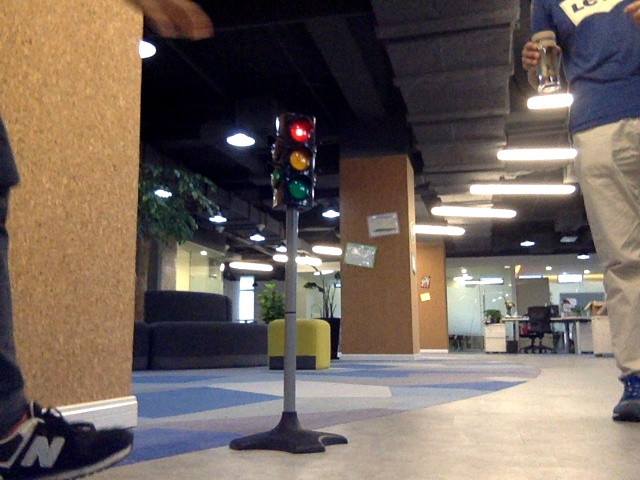red: (275, 119, 315, 202)
